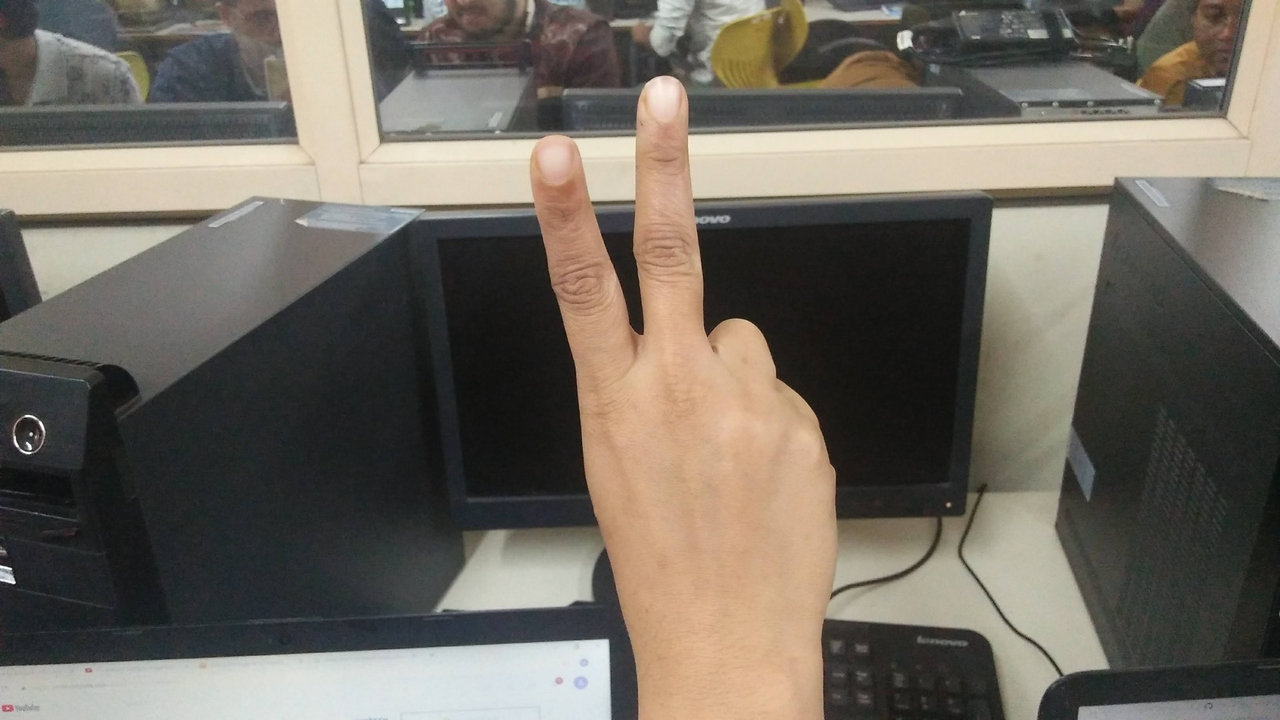fingertip: (524, 126, 588, 188), (630, 68, 692, 132)
